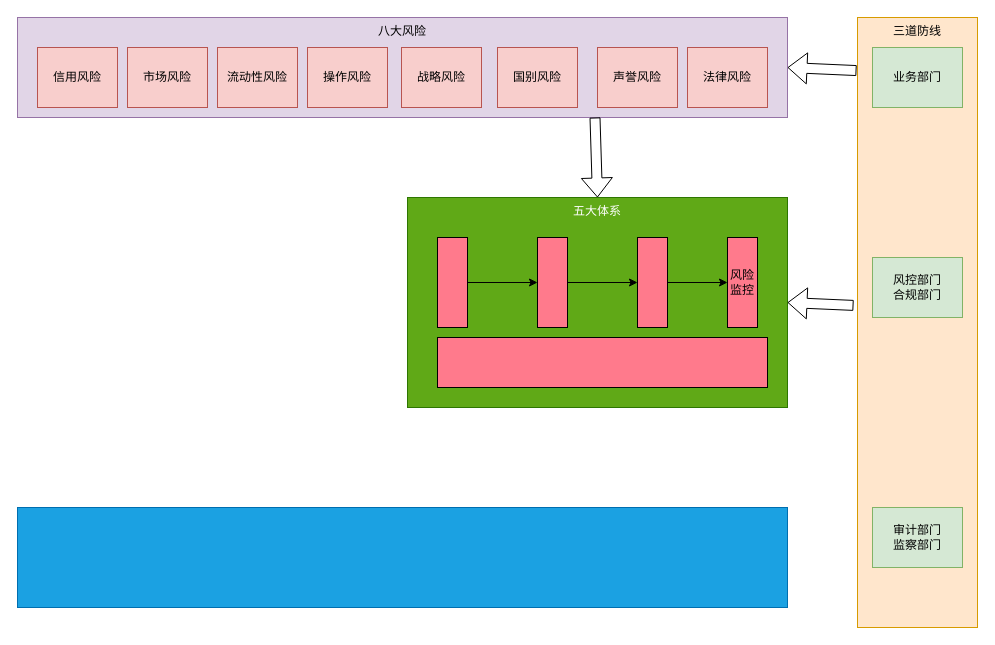
The diagram is 995 pixels wide and 645 high, and some of its shapes have lost their labels. Each missing label, with the centre of its shape:
"七大系统" belongs at point 402,557.
"风险决策" belongs at point 652,282.
"风险分析" belongs at point 552,282.
"风险识别" belongs at point 452,282.
"风险迭代" belongs at point 602,362.
